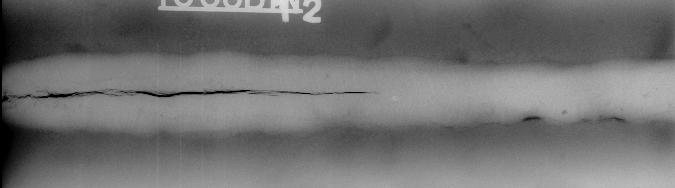FF: (548, 110, 648, 130), (412, 116, 544, 130)
PO: (32, 103, 89, 113), (158, 111, 199, 123), (4, 102, 22, 114)
TR: (5, 88, 391, 100)
